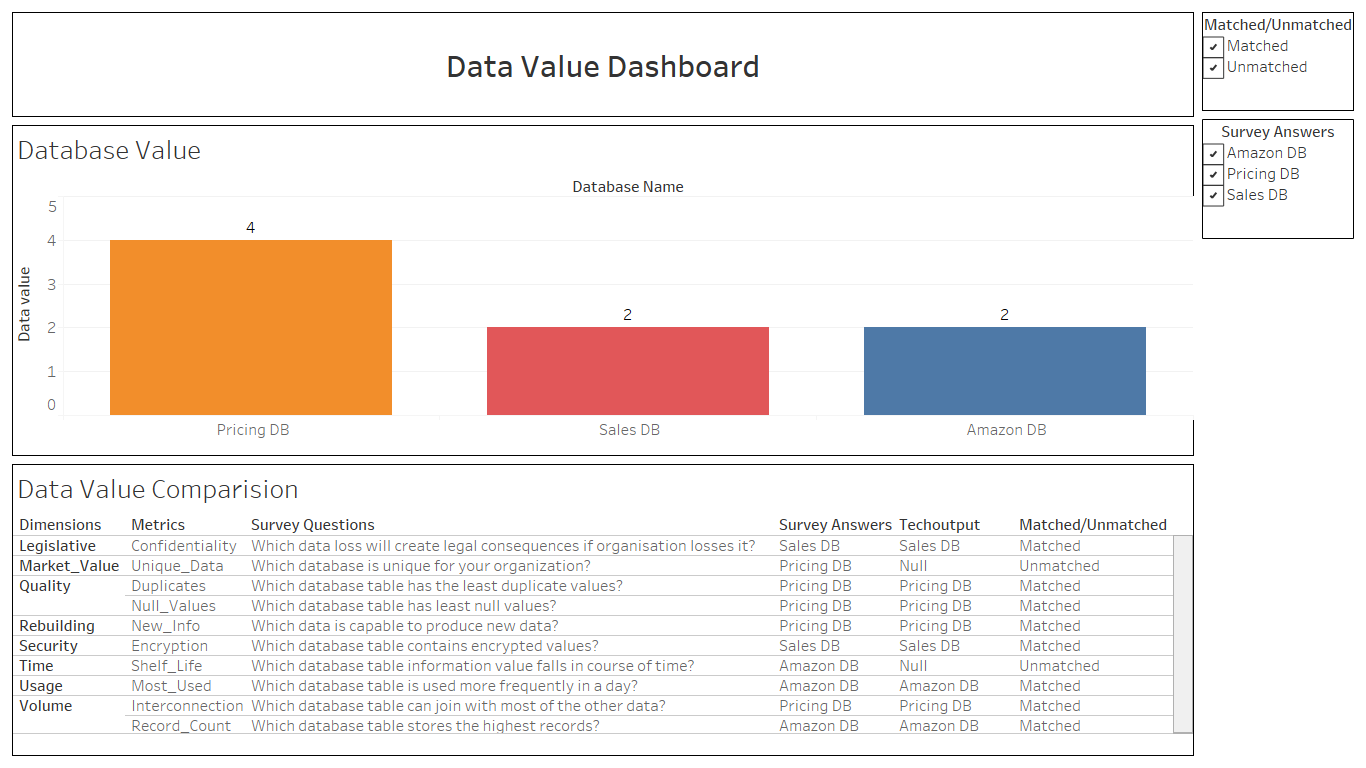

Layout of this report page (visuals, bound fields, positions):
{"tool":"tableau","page":{"name":"Dashboard","canvas":[1366,768],"ordinal":0},"visuals":[{"type":"title","box":[8,8,1190,113]},{"type":"filter","title":"Database Value","param":"[federated.10qr7230e37ly915ld2jo0gid13z].[none:Calculation_988258667572391936:nk","box":[1198,8,160,107]},{"type":"filter","title":"Database Value","param":"[federated.10qr7230e37ly915ld2jo0gid13z].[none:SurveyAns:nk]","box":[1198,115,160,128]},{"type":"worksheet","title":"Database Value","mark":"Bar","rows":["Data_value"],"cols":["Db_Name"],"box":[8,121,1190,339]},{"type":"worksheet","title":"Data Value Comparision","mark":"Bar","rows":["Dimension","Metric","SurveyQues","SurveyAns","Techoutput","Calculation_988258667572391936"],"box":[8,460,1190,300]}]}

Visuals, with their boxes in screenshot pixels (x1, y1, x2, y2), scaled from the page's 1366x768 canvas onto the 1366x768 screenshot:
title: crop(8, 8, 1198, 121)
"Database Value" filter: crop(1198, 8, 1358, 115)
"Database Value" filter: crop(1198, 115, 1358, 243)
"Database Value" worksheet (Bar marks): crop(8, 121, 1198, 460)
"Data Value Comparision" worksheet (Bar marks): crop(8, 460, 1198, 760)
